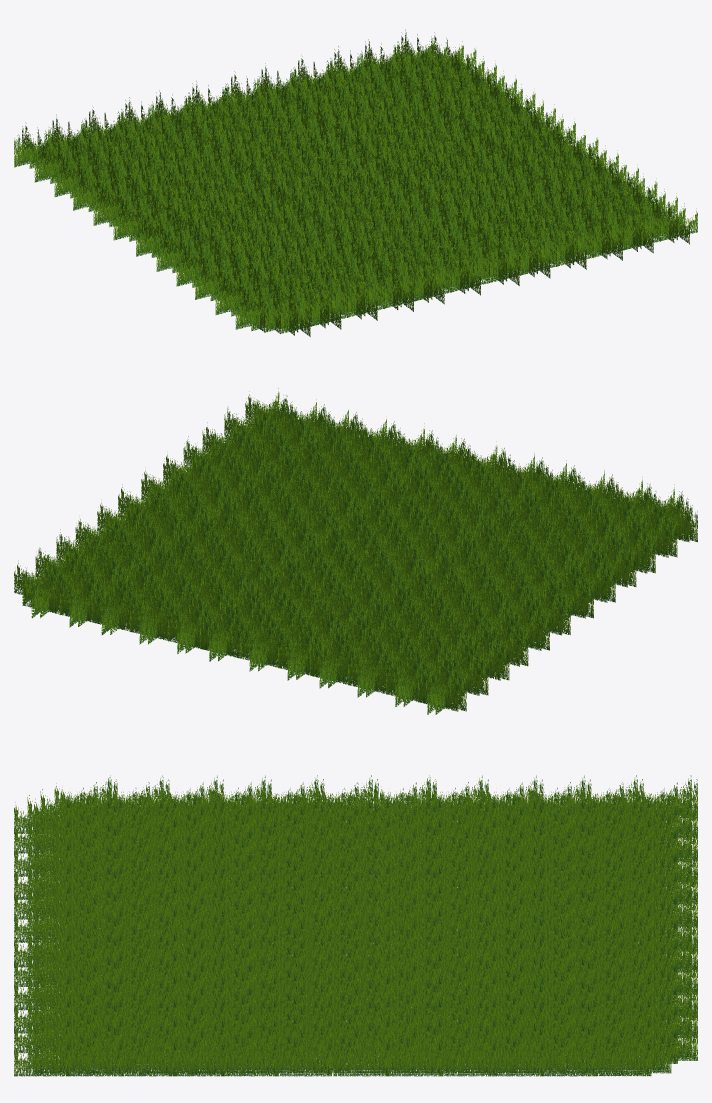
3 renders of one model, top to bottom at view 1: azimuth 30°, elevation 25°; view 2: azimuth 150°, elevation 25°; view 3: azimuth 270°, elevation 25°, orthographic. The views are drawn at different scales.
Parts seen in each view (by area): view 1: 78f67a44e13965ae3008bbb284401925.000_78f67a44e13965ae3008bbb; view 2: 78f67a44e13965ae3008bbb284401925.000_78f67a44e13965ae3008bbb; view 3: 78f67a44e13965ae3008bbb284401925.000_78f67a44e13965ae3008bbb.
Part boxes in pixels (<box>): 78f67a44e13965ae3008bbb284401925.000_78f67a44e13965ae3008bbb: <box>14,29,697,336</box>; 78f67a44e13965ae3008bbb284401925.000_78f67a44e13965ae3008bbb: <box>14,388,697,714</box>; 78f67a44e13965ae3008bbb284401925.000_78f67a44e13965ae3008bbb: <box>14,775,697,1076</box>.
Size of the model in its own units: 1523 by 147 by 1542.
Materials: 1 (1 with a texture image).
